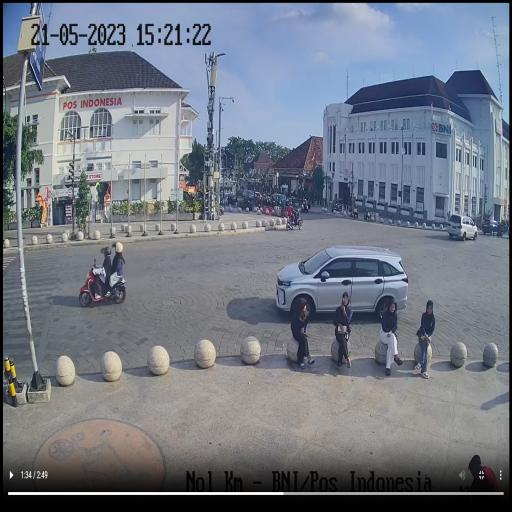mobil: (276, 245, 408, 321)
motor: (79, 254, 126, 312)
